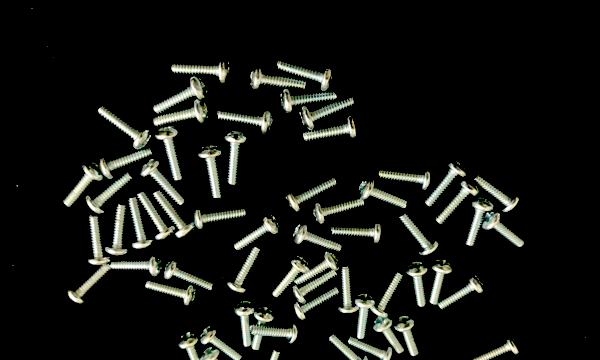shortscrew: (96, 105, 151, 150), (152, 75, 209, 114), (140, 159, 186, 206), (424, 159, 468, 208), (85, 172, 135, 214), (153, 192, 197, 239), (436, 178, 480, 225), (299, 95, 356, 131), (285, 175, 338, 213), (67, 263, 114, 305), (62, 161, 104, 208), (397, 211, 440, 256), (473, 174, 521, 213), (437, 273, 486, 311), (137, 192, 175, 241), (233, 214, 280, 252), (277, 59, 332, 91), (482, 210, 526, 249), (164, 259, 214, 293), (100, 147, 153, 179), (249, 64, 307, 93), (217, 106, 273, 136), (171, 56, 231, 84), (371, 269, 405, 318), (358, 177, 408, 210), (272, 256, 310, 299), (294, 250, 340, 285), (153, 99, 209, 127), (293, 221, 342, 253), (227, 247, 261, 293), (291, 271, 337, 305), (293, 287, 339, 321), (156, 126, 184, 181), (199, 325, 242, 360), (303, 115, 358, 142), (197, 144, 224, 198), (144, 279, 196, 306), (127, 198, 154, 250), (224, 130, 249, 186), (281, 89, 337, 114), (312, 199, 365, 225), (466, 197, 494, 246), (378, 167, 432, 192), (194, 206, 247, 231), (373, 314, 405, 355), (86, 215, 111, 266), (430, 257, 456, 306), (471, 335, 521, 360), (111, 253, 163, 277), (393, 315, 422, 358), (105, 205, 129, 256), (332, 221, 383, 245), (346, 334, 393, 360), (404, 261, 428, 308), (252, 304, 276, 351), (328, 333, 369, 360), (234, 300, 256, 348), (354, 293, 376, 340), (251, 323, 299, 344), (178, 331, 207, 360), (201, 348, 236, 360), (255, 348, 283, 360)
